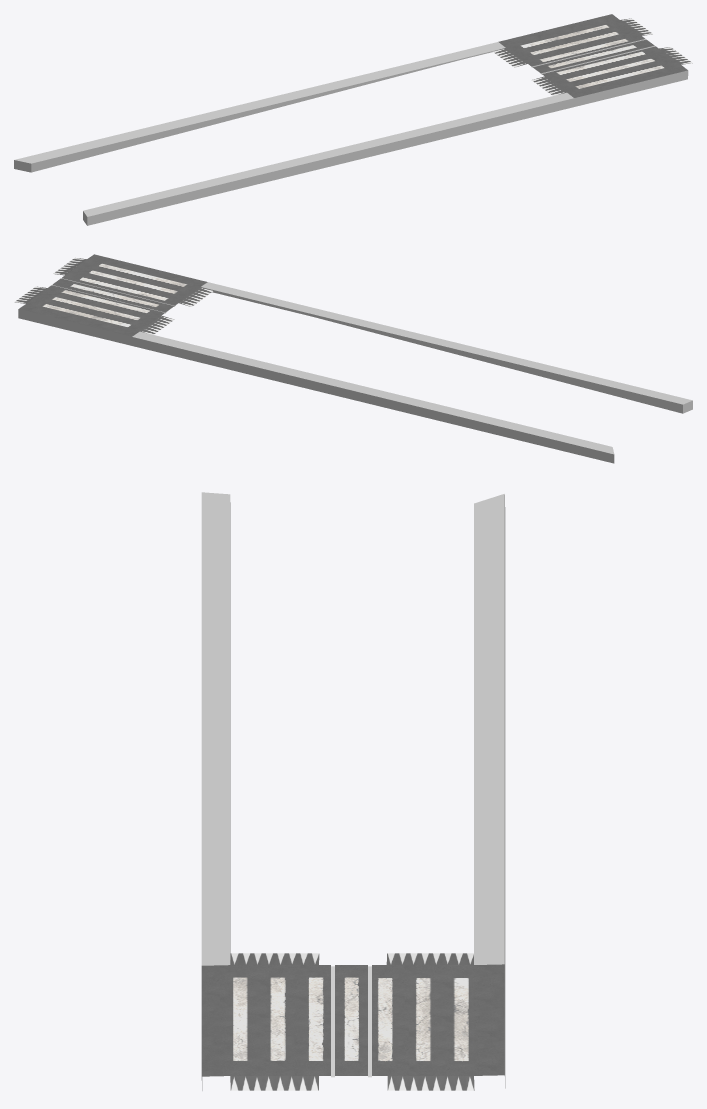
Rendered from Trottoir_G.fbx.
3 renders of one model, top to bottom at view 1: azimuth 30°, elevation 25°; view 2: azimuth 150°, elevation 25°; view 3: azimuth 270°, elevation 25°, orthographic. The views are drawn at different scales.
Visible parts, largest first — view 1: Trottoir_G; view 2: Trottoir_G; view 3: Trottoir_G.
Part boxes in pixels (box(x1,y1,x2,y2)): Trottoir_G: box(14, 14, 692, 225); Trottoir_G: box(14, 254, 692, 463); Trottoir_G: box(201, 492, 505, 1090).
Bounding box in the file's own units: 1744 × 123 × 8105.
